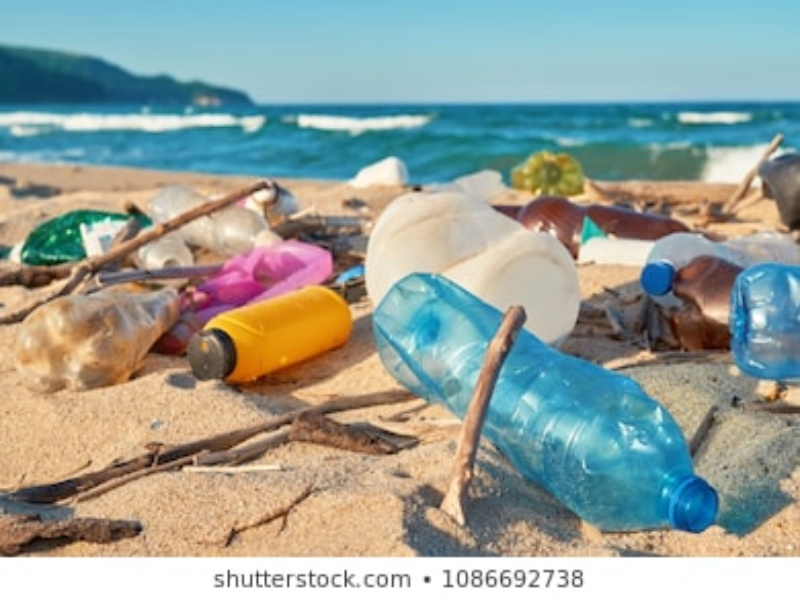bottle-cap: (188, 334, 237, 382), (642, 263, 673, 299)
detergent-bottle: (368, 185, 580, 338)
plastic-bottle: (371, 273, 718, 533), (192, 280, 358, 385), (21, 285, 181, 391), (644, 229, 794, 299), (140, 181, 278, 251), (730, 263, 800, 381)
